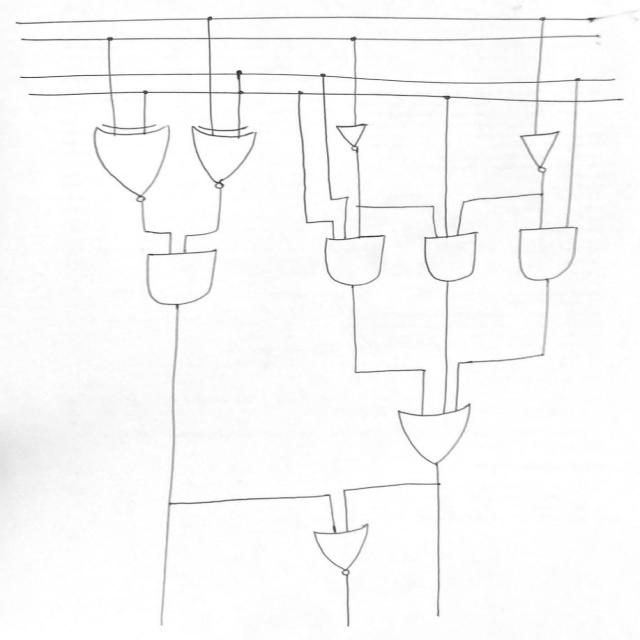AND: (136, 247, 245, 321), (312, 231, 394, 291), (512, 225, 584, 288), (415, 228, 487, 290)
NOR: (298, 520, 388, 580)
NOT: (511, 132, 564, 174), (335, 122, 381, 158)
OR: (384, 401, 502, 471)
XNOR: (87, 116, 181, 212), (188, 117, 269, 193)
